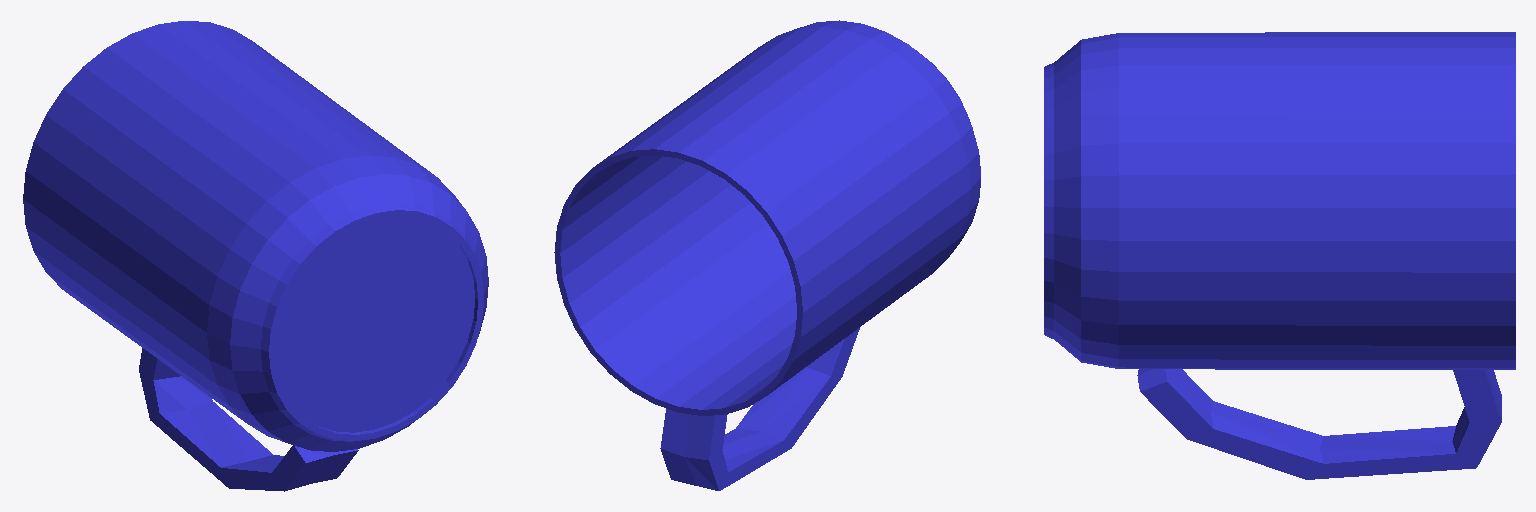
URDF robot description (mug_6):
<?xml version="1.0"?>
<robot name="mug_6">
  <link name="mug_base_link">
    <contact>
      <lateral_friction value="1.0"/>
      <spinning_friction value=".001"/>
    </contact>
    <inertial> 
      <origin rpy="0 0 0" xyz="0 0 0"/>
      <mass value="0.2"/>
      <inertia ixx="1" ixy="0" ixz="0" iyy="1" iyz="0" izz="1"/>
    </inertial>
    <visual>
      <origin rpy="0 0 0" xyz="0.0 0.0 0.0"/>
      <geometry>
        <mesh filename="./m6.obj" scale="1 1.5 1"/>
      </geometry>
      <material name="mug_mat">
        <color rgba="0.3 0.3 0.9 1"/>
      </material>
    </visual>
    <collision>
      <origin rpy="0 0 0" xyz="0.0 0.0 0.0"/>
      <geometry>
        <mesh filename="./m6_cd.obj" scale="1 1.5 1"/>
      </geometry>
    </collision>
  </link>
</robot>

--- What the picture shows (computed from the rendered views, not written in the file) ---
Views: 3 orthographic renders of the robot side by side, from view 1: azimuth 30°, elevation 25°; view 2: azimuth 150°, elevation 25°; view 3: azimuth 270°, elevation 25°.
Model mug_6 with 1 links and 0 joints (none), rooted at mug_base_link, posed every joint at zero.
Visible links, largest first — view 1: mug_base_link; view 2: mug_base_link; view 3: mug_base_link.
Boxes of the visible links, box(x1,y1,x2,y2) form: mug_base_link: box(23, 21, 488, 491); mug_base_link: box(554, 20, 980, 490); mug_base_link: box(1044, 32, 1515, 479).
Bounding box of the posed robot: 2.78 × 3.87 × 3.8 m (x, y, z).
Meshes: 1 distinct files referenced, 1 mesh visuals loaded (1 OBJ).